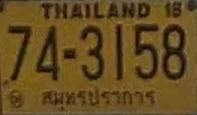1: (114, 24, 122, 80)
3: (80, 24, 104, 80)
4: (34, 25, 58, 80)
5: (134, 23, 158, 79)
7: (6, 25, 31, 80)
8: (162, 24, 186, 79)
SPK: (41, 86, 157, 112)
